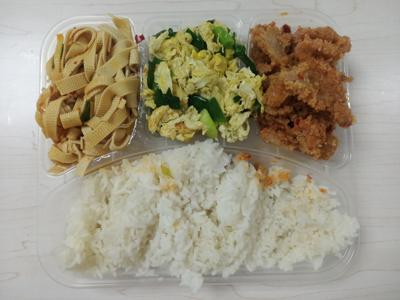cjd: (144, 18, 256, 146)
gdf: (42, 20, 141, 158)
j2: (251, 19, 349, 167)
rice: (48, 145, 375, 279)
